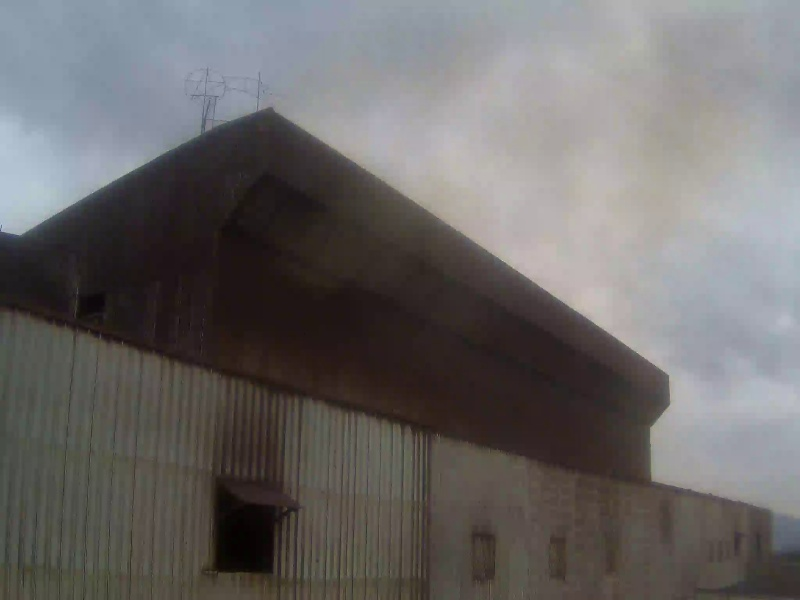Ruim: (294, 37, 715, 290)
